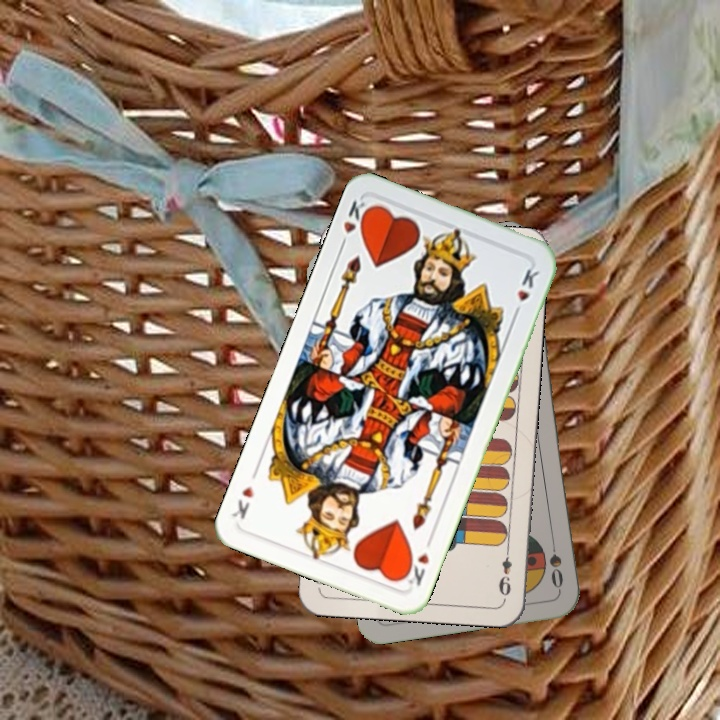E9: (495, 542, 514, 601)
HK: (335, 195, 374, 252), (399, 549, 432, 589)
SO: (545, 533, 566, 592)
